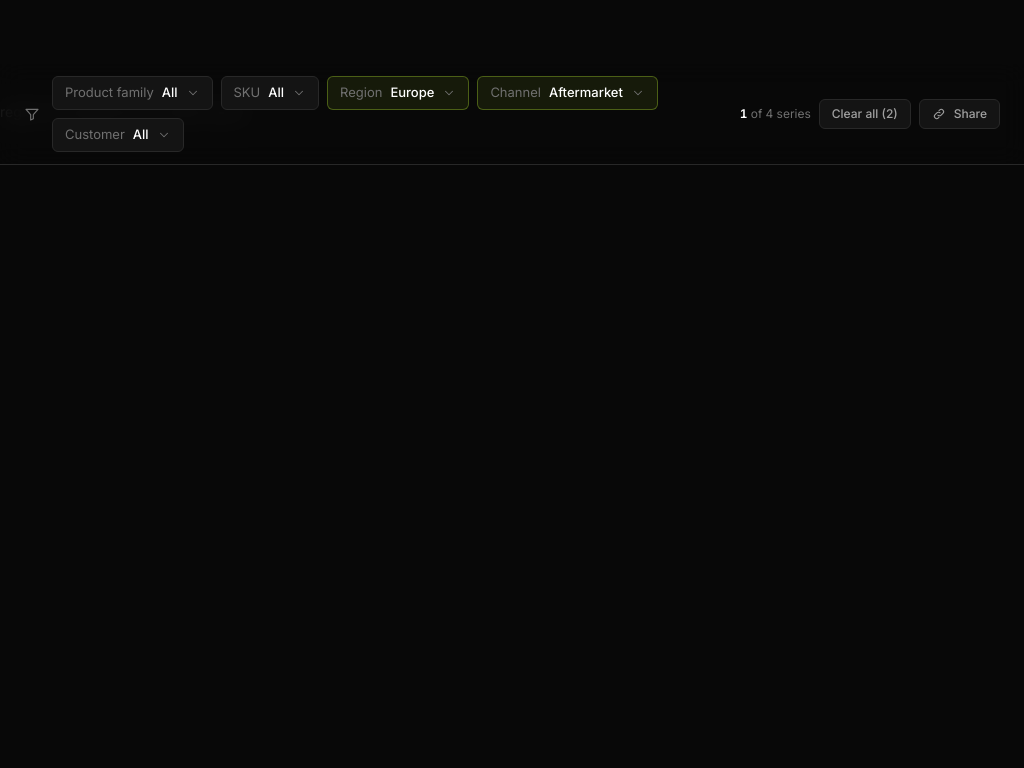
it: global filter bar › search narrows options and Clear all resets every filter
Later steps or results of the test are not shown.
Expected: the button "Clear all (2)" is enabled, [819,99,911,129]
Click the button "Customer All": point(118, 135) [52,118,184,152]
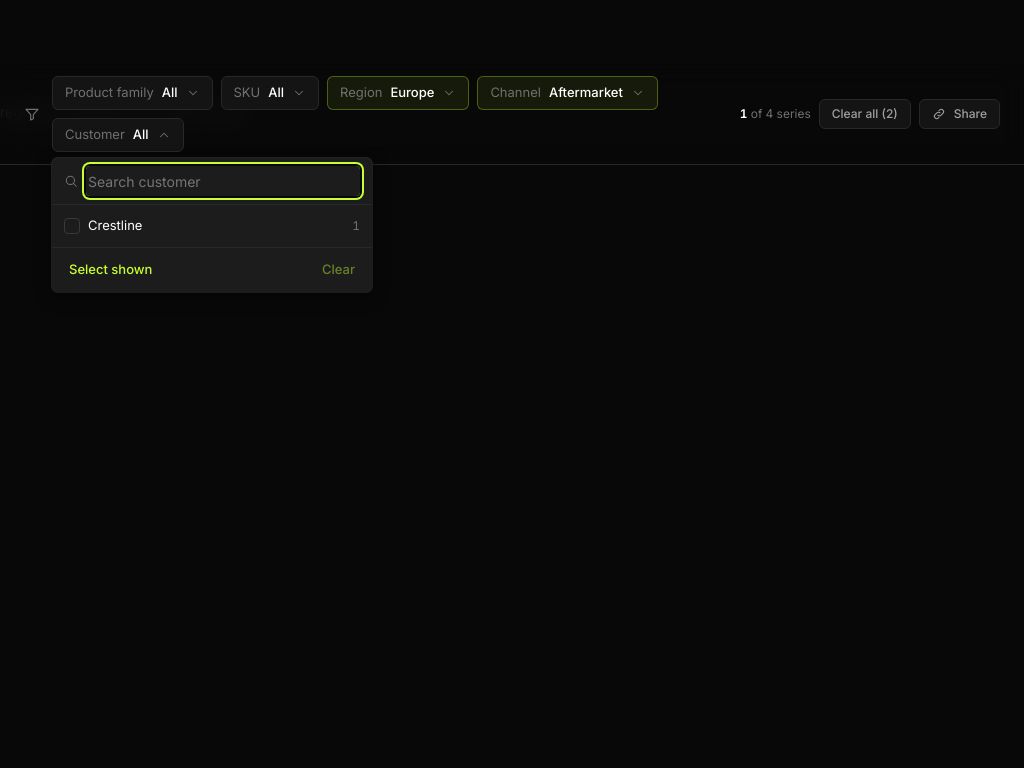
In the field labelled "Search customer": point(223, 181) [86,166,360,196], type "cre"
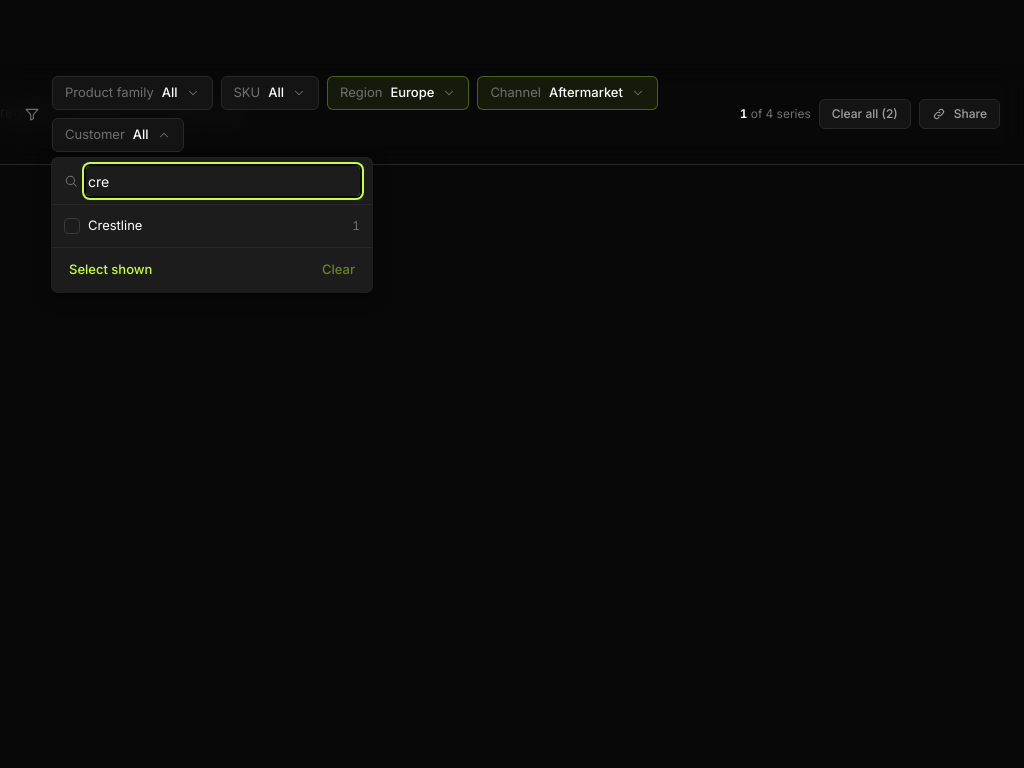
Now the number of options is 1, box [64,217,360,234]
